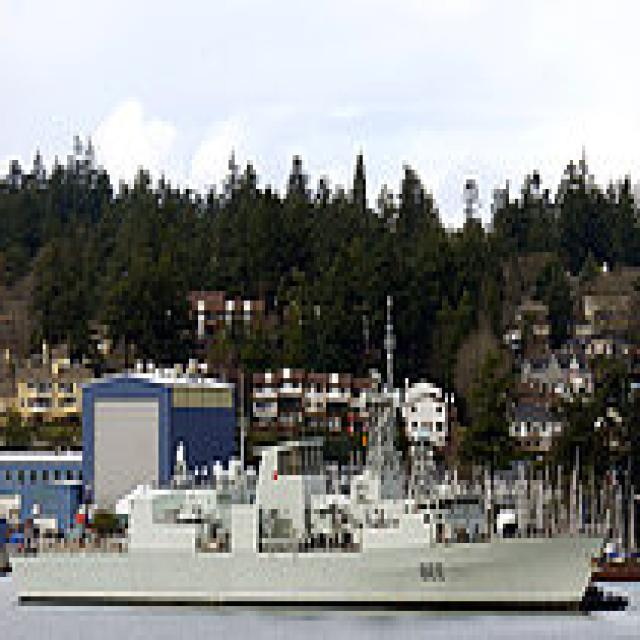Warship: (12, 291, 613, 611)
